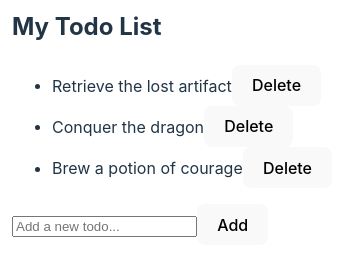
Test case: TodoList component › renders todos and allows a todo to be deleted
Expected: the list item "Retrieve the lost artifact" is shown, x1=52 y1=75 x2=232 y2=95
Expected: the list item "Conquer the dragon" is shown, x1=52 y1=116 x2=204 y2=136
Click the button "Delete" next to "Retrieve the lost artifact": {"x": 276, "y": 85} x1=232 y1=64 x2=321 y2=106
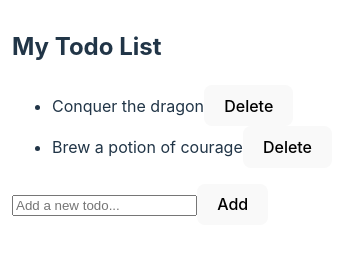
Result: the list item "Retrieve the lost artifact" is gone
